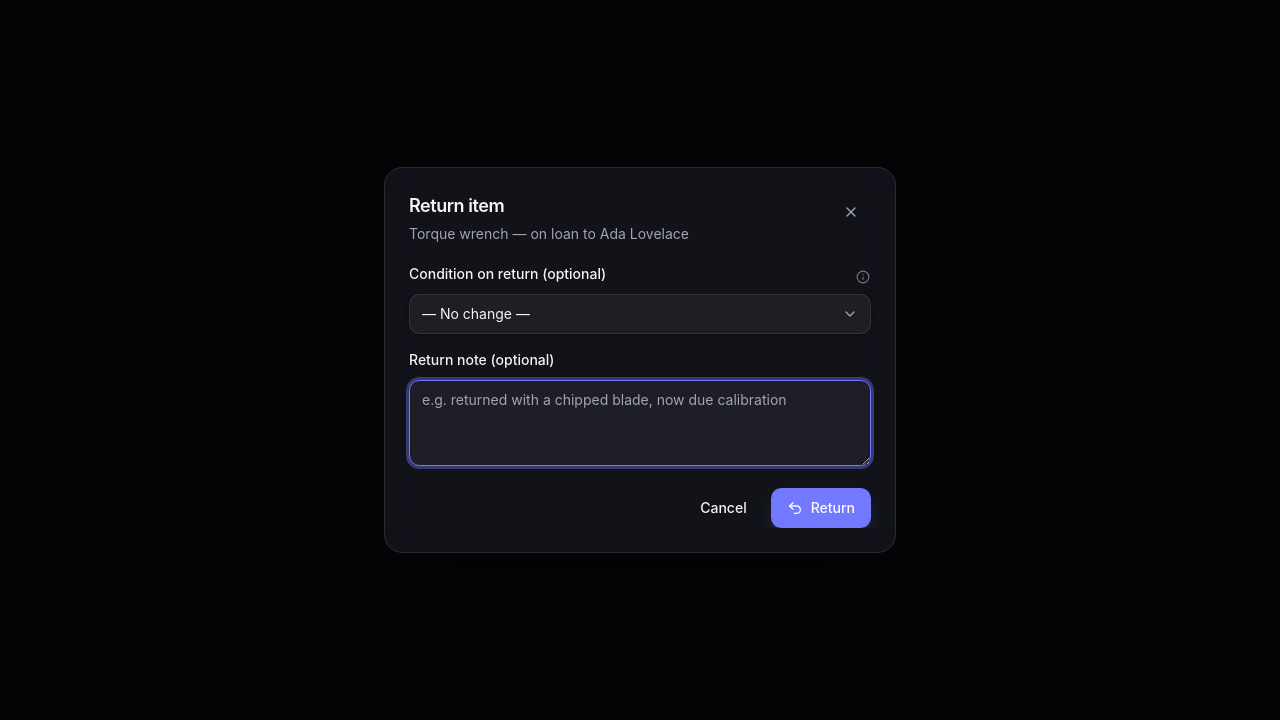
Test: CheckInDialog — a failed check-in surfaces the error and stays open › shows the mutation error in an alert and does not close
This screenshot has width=1280, height=720.
Click the button "Return" at {"x": 821, "y": 508}, box [771, 488, 871, 528]
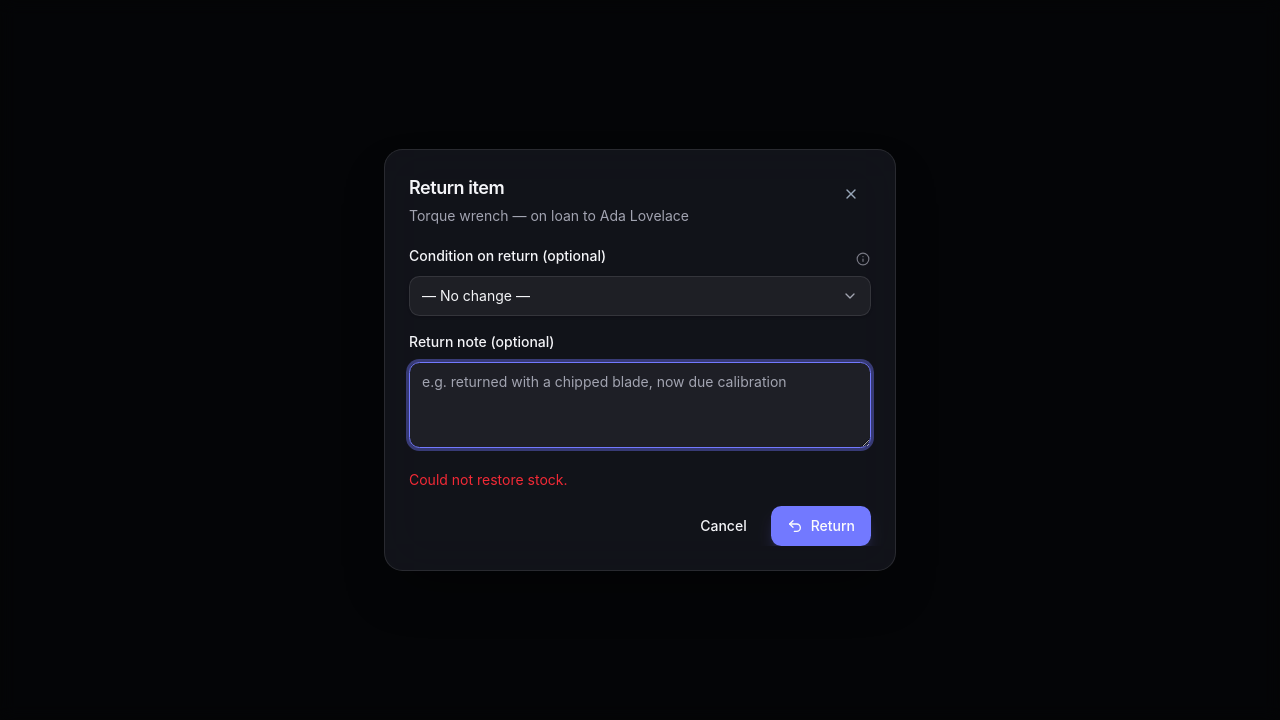
Expected: the message reads "Could not restore stock.", [409, 471, 568, 488]
